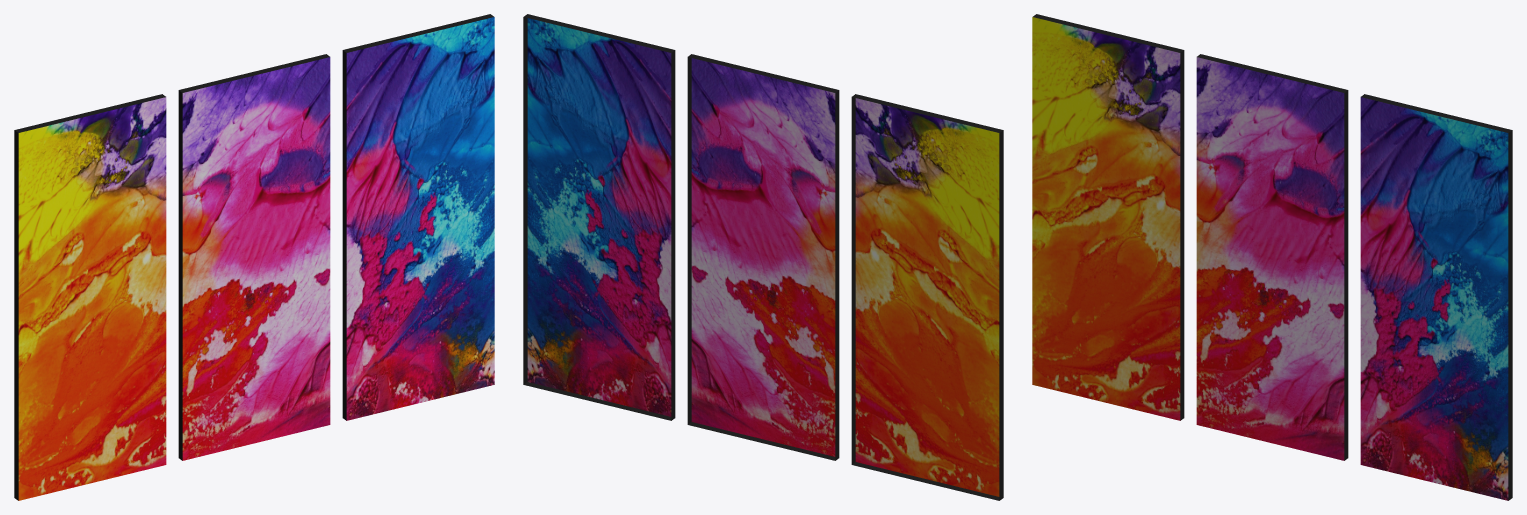
File: Frame_07.FBX
3 views of the same model, side by side, from view 1: azimuth 30°, elevation 25°; view 2: azimuth 150°, elevation 25°; view 3: azimuth 330°, elevation 25° (orthographic).
Parts seen in each view (by area): view 1: Frame07; view 2: Frame07; view 3: Frame07.
Part boxes in pixels (x1,y1,x2,y2): Frame07: (14, 14, 494, 500); Frame07: (523, 14, 1003, 500); Frame07: (1032, 14, 1512, 500).
Bounding box in the file's own units: 2.03 × 1.5 × 0.03.
